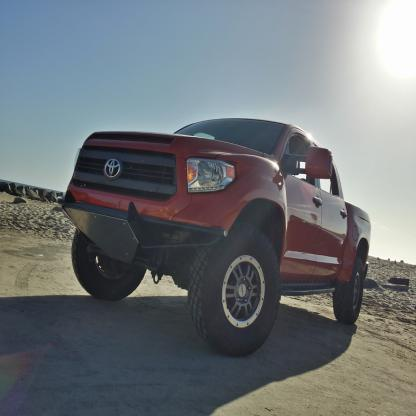Truck: (56, 118, 371, 357)
